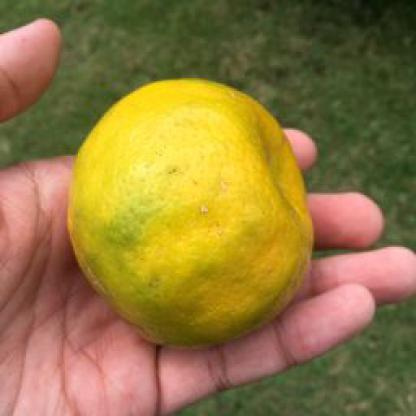orange: (63, 73, 312, 346)
